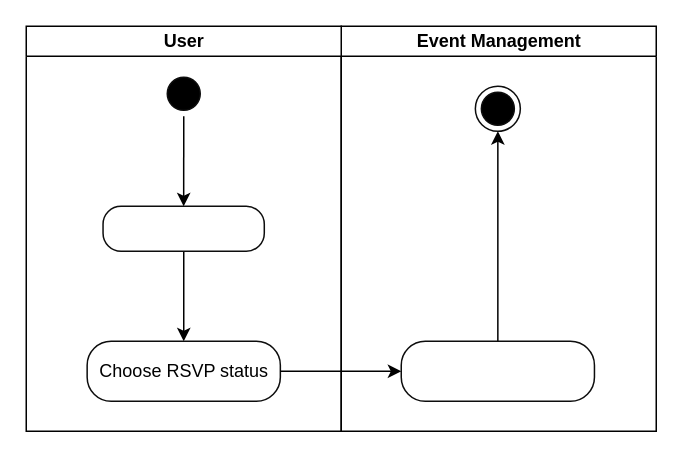
The diagram is 683 pixels wide and 458 high, and some of its shapes have lost their labels. The shapes that lost their labels are listed below. From the top down, each one's centre as x and y in pixels, then its label:
At (183,228): "Select Event".
At (497,370): "Update status in database".
